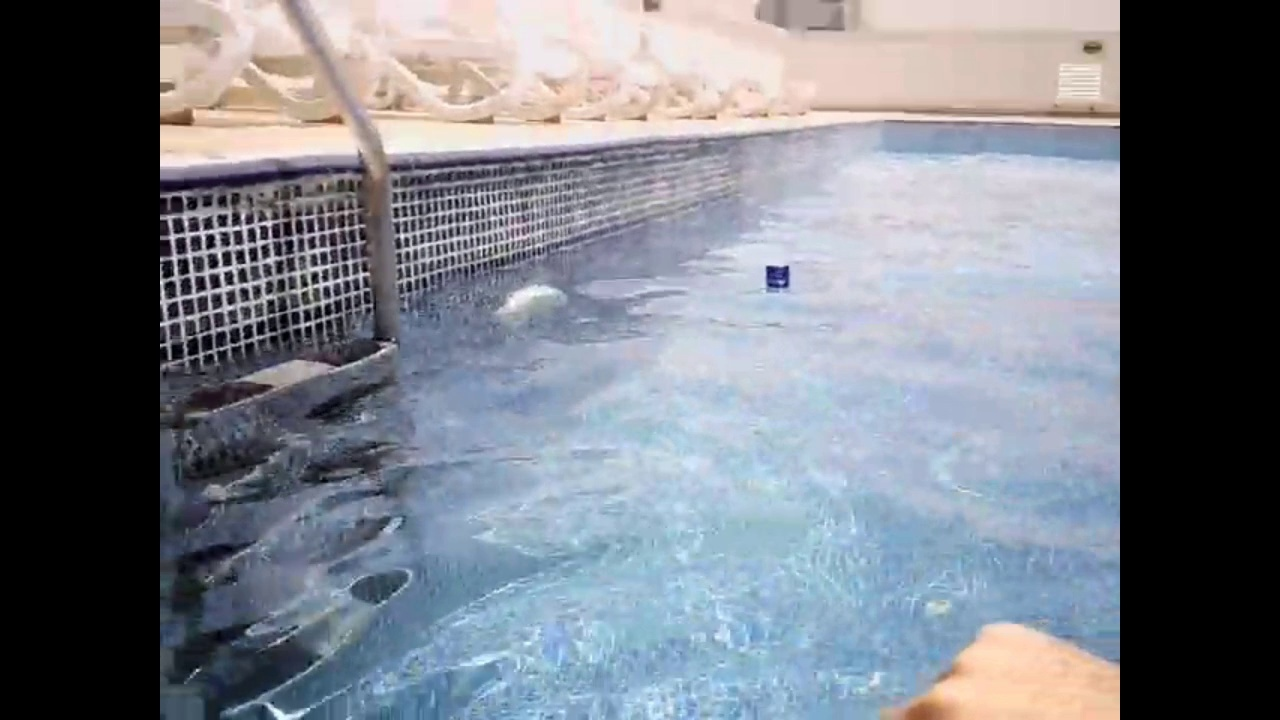debris: (760, 260, 792, 304)
